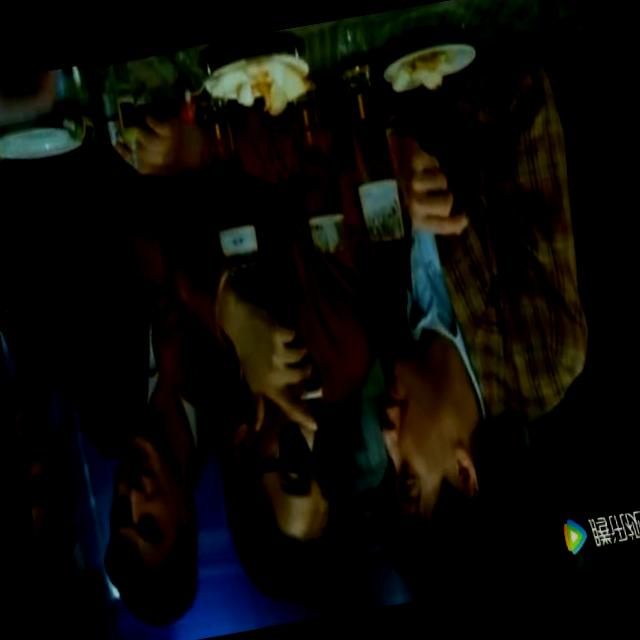smoke: (294, 385, 326, 413)
